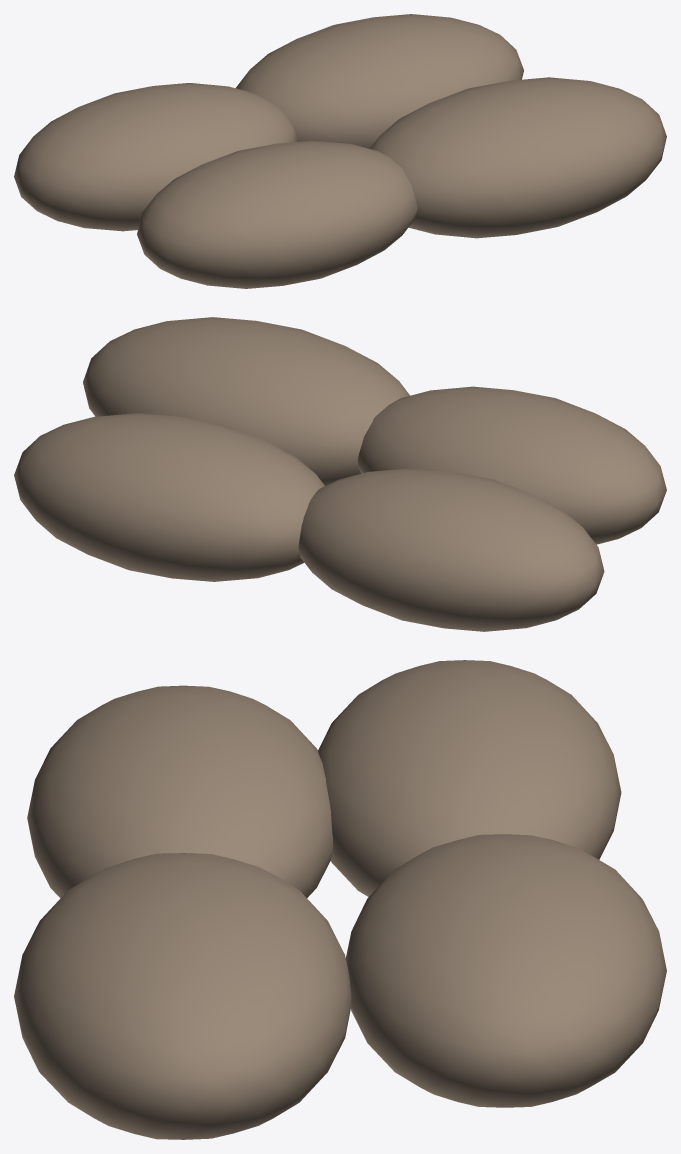
The picture shows the model from 3 angles, top to bottom: view 1: azimuth 30°, elevation 25°; view 2: azimuth 150°, elevation 25°; view 3: azimuth 270°, elevation 25°; orthographic projection. The views are drawn at different scales.
Visible parts, largest first — view 1: TI044 / individual ant egg.003, TI044 / individual ant egg.002, TI044 / individual ant egg, TI044 / individual ant egg.001; view 2: TI044 / individual ant egg.001, TI044 / individual ant egg, TI044 / individual ant egg.003, TI044 / individual ant egg.002; view 3: TI044 / individual ant egg.003, TI044 / individual ant egg.001, TI044 / individual ant egg, TI044 / individual ant egg.002.
Part boxes in pixels (x1,y1,x2,y2): TI044 / individual ant egg.003: (369,77,666,238); TI044 / individual ant egg.002: (137,140,417,288); TI044 / individual ant egg: (14,83,297,231); TI044 / individual ant egg.001: (236,14,523,148); TI044 / individual ant egg.001: (14,413,324,581); TI044 / individual ant egg: (298,468,604,631); TI044 / individual ant egg.003: (83,317,409,485); TI044 / individual ant egg.002: (357,386,666,544); TI044 / individual ant egg.003: (14,853,351,1139); TI044 / individual ant egg.001: (345,834,666,1107); TI044 / individual ant egg: (318,660,621,896); TI044 / individual ant egg.002: (27,685,333,898).
Bounding box in the file's own units: 2.45 × 0.5204 × 1.63.
